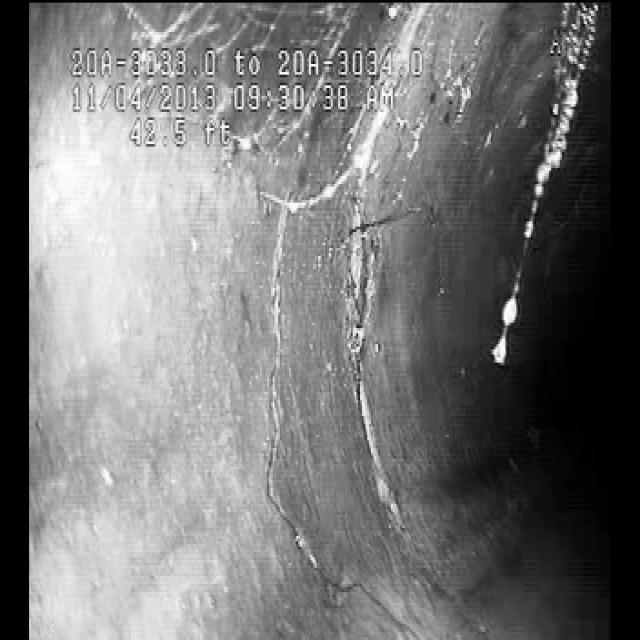Crack: (250, 203, 382, 586)
